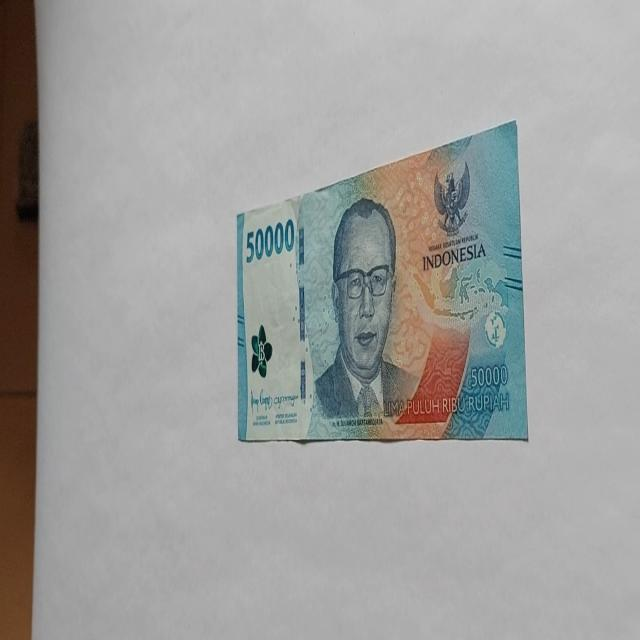lima puluh ribu rupiah: (236, 120, 528, 444), (306, 195, 421, 438)
